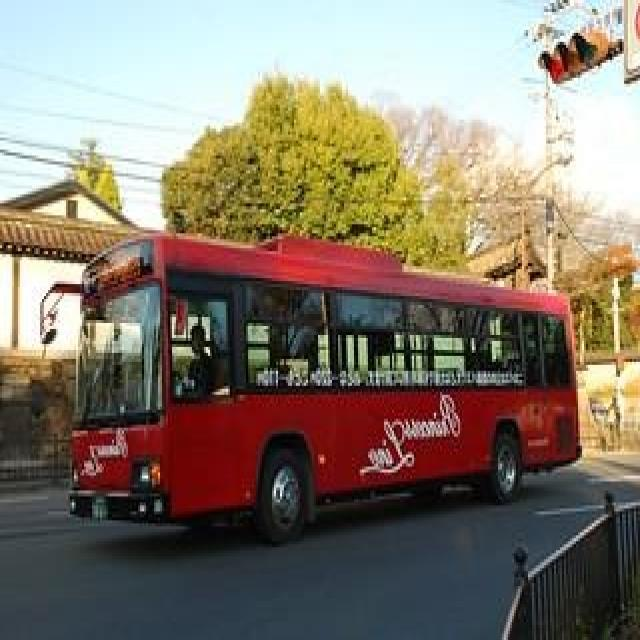Bus: (91, 278, 569, 505)
